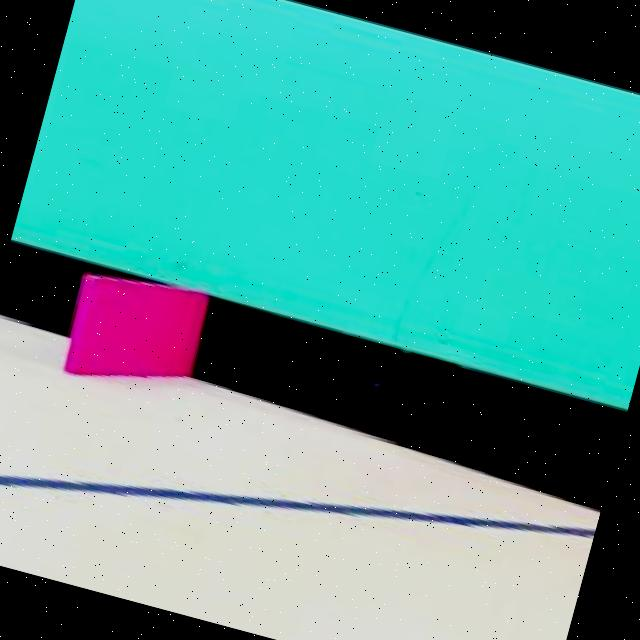xparking: (67, 275, 204, 400)
